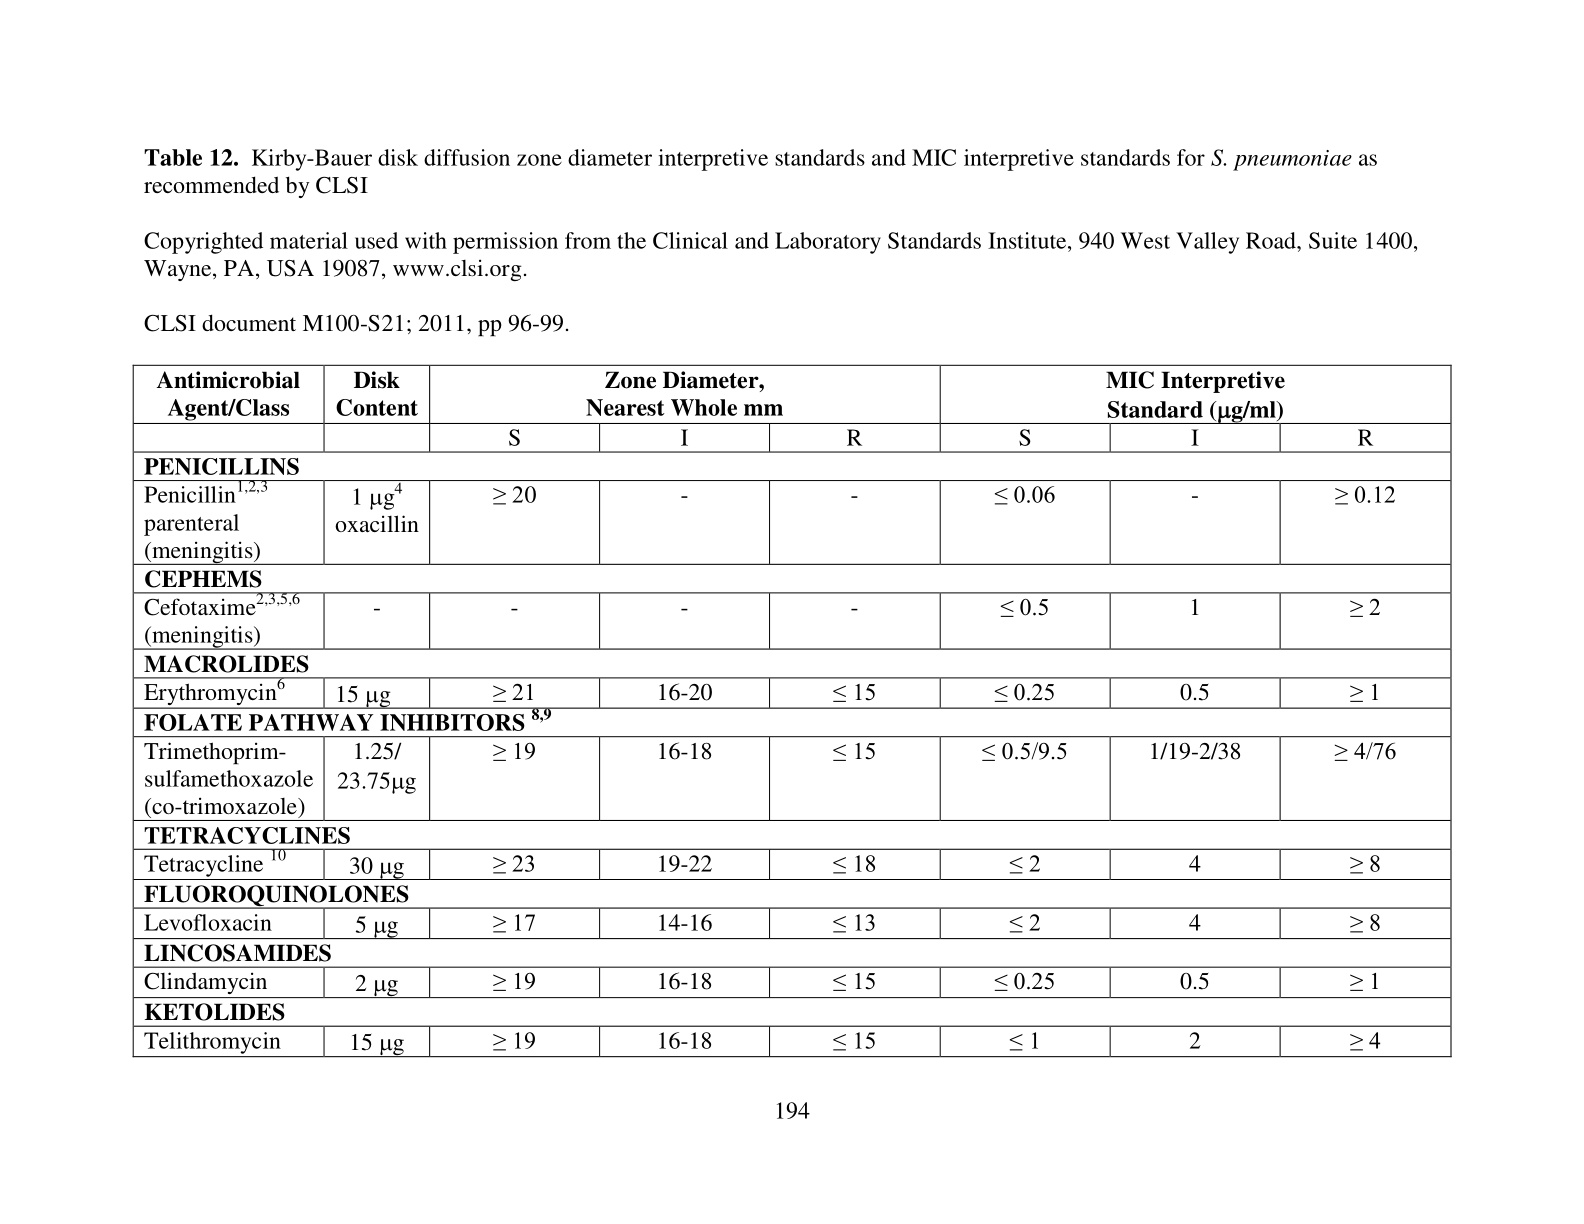merged_cells: (132, 364, 1452, 1058)
